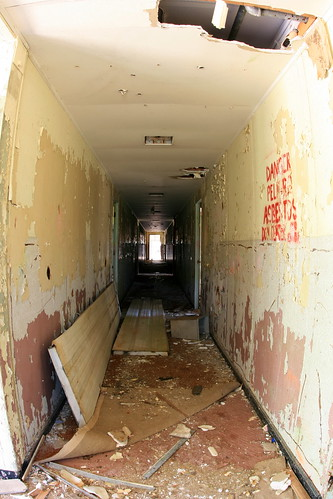graffiti: (250, 140, 313, 253)
trash: (51, 274, 253, 494)
wall: (199, 38, 333, 499), (1, 54, 121, 470)
